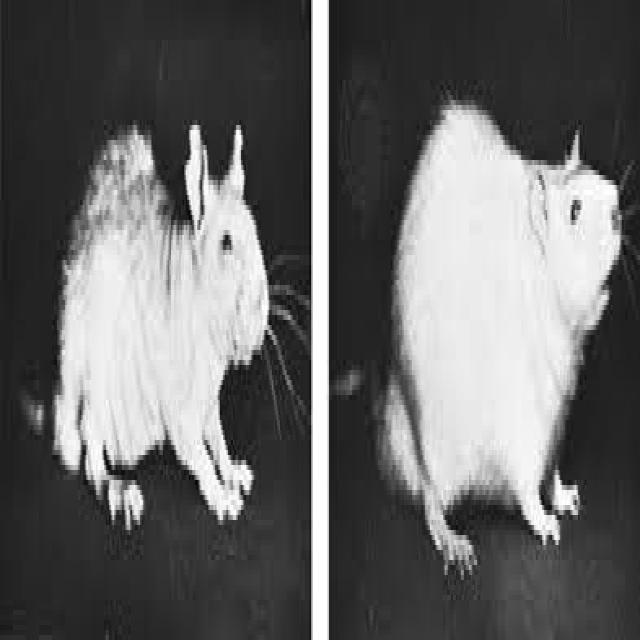rat: (331, 90, 638, 580), (16, 115, 308, 530)
